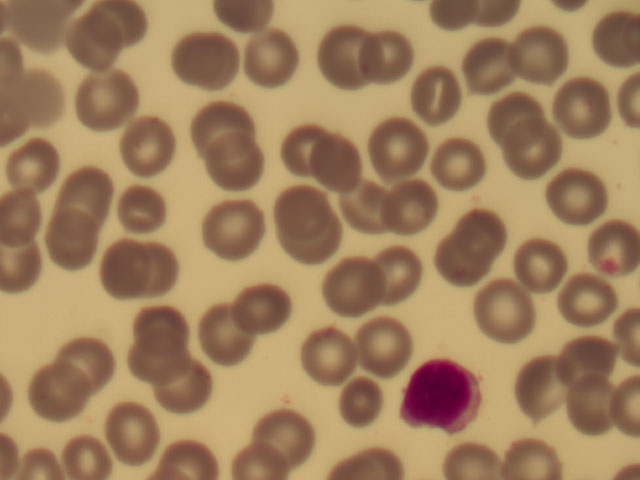RBC: (65, 10, 124, 69), (77, 67, 136, 126), (12, 70, 71, 129), (7, 132, 66, 191), (52, 213, 111, 272), (60, 165, 119, 224), (122, 118, 181, 177), (110, 184, 169, 243), (91, 243, 150, 302), (131, 243, 190, 302), (203, 199, 262, 258), (210, 134, 269, 193), (192, 99, 251, 158), (174, 32, 233, 91), (237, 25, 296, 84), (311, 23, 370, 82), (358, 26, 417, 85), (405, 67, 464, 126), (367, 116, 426, 175), (312, 133, 371, 192), (272, 123, 331, 182), (272, 181, 331, 240), (284, 208, 343, 267), (240, 280, 299, 339), (202, 305, 261, 364), (124, 294, 183, 353), (128, 328, 187, 387), (156, 356, 215, 415), (61, 331, 120, 390), (32, 363, 91, 422), (110, 397, 169, 456), (60, 421, 119, 480), (161, 421, 220, 480), (223, 421, 282, 480), (258, 405, 317, 464), (296, 330, 355, 389), (334, 369, 393, 428), (350, 325, 409, 384), (327, 260, 386, 319), (364, 248, 423, 307), (385, 177, 444, 236), (347, 175, 406, 234), (430, 232, 489, 291), (453, 202, 512, 261), (420, 132, 479, 191), (504, 129, 563, 188), (483, 91, 542, 150), (461, 38, 520, 97), (501, 21, 560, 80), (554, 75, 613, 134), (558, 167, 617, 226), (515, 233, 574, 292), (479, 272, 538, 331), (553, 268, 612, 327), (581, 211, 640, 270), (553, 327, 612, 386), (515, 356, 574, 415), (561, 371, 620, 430), (581, 13, 640, 72), (9, 1, 68, 59), (94, 1, 153, 59)
WBC: (407, 359, 483, 433)
